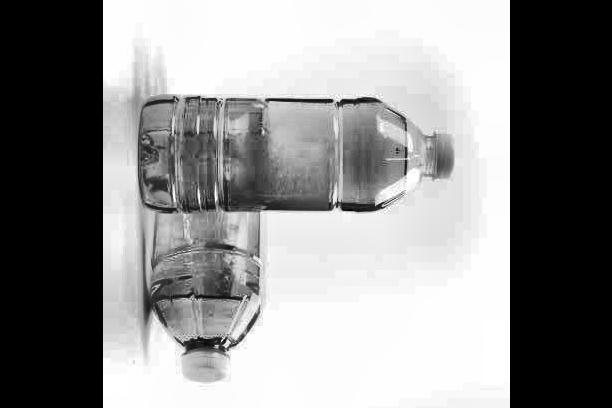waterbottle: (128, 79, 488, 218), (135, 218, 276, 398)
